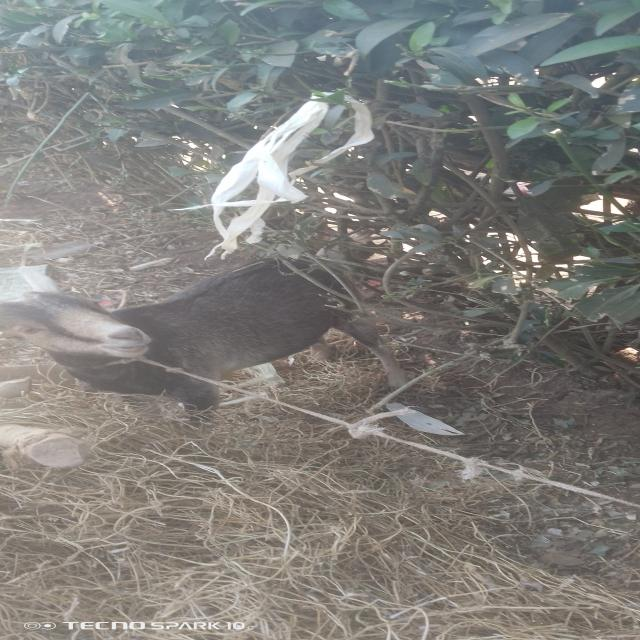goat: (0, 190, 449, 452)
